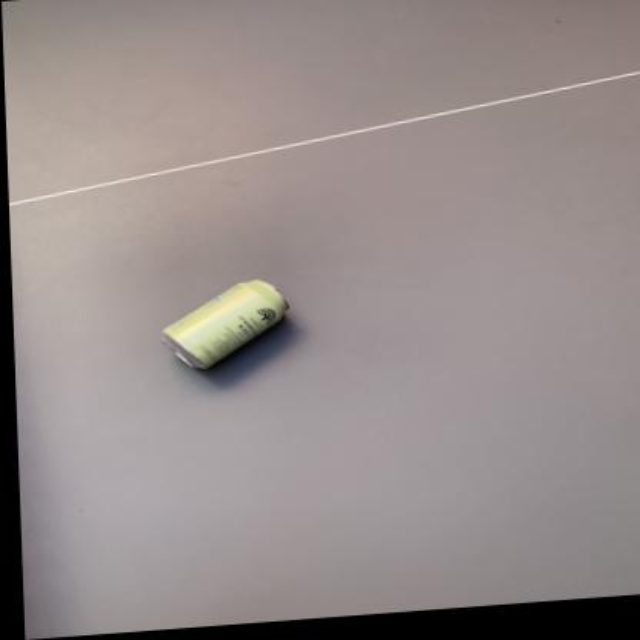trash: (163, 278, 288, 368)
